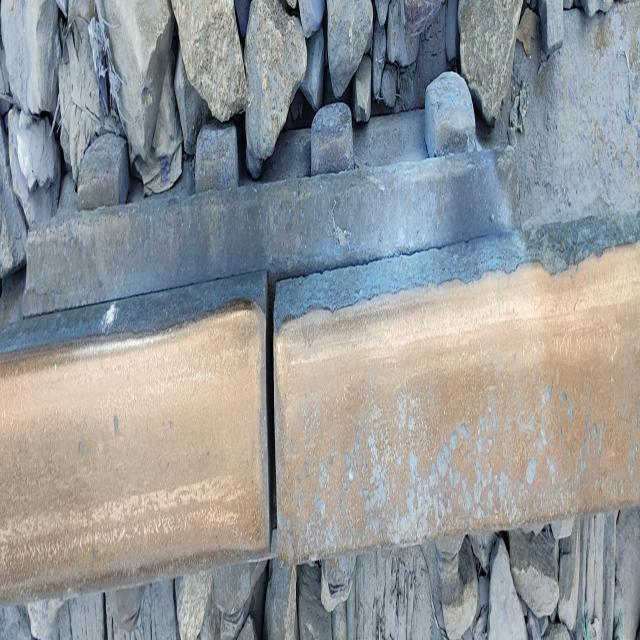Defective Joint: (22, 41, 530, 313)
